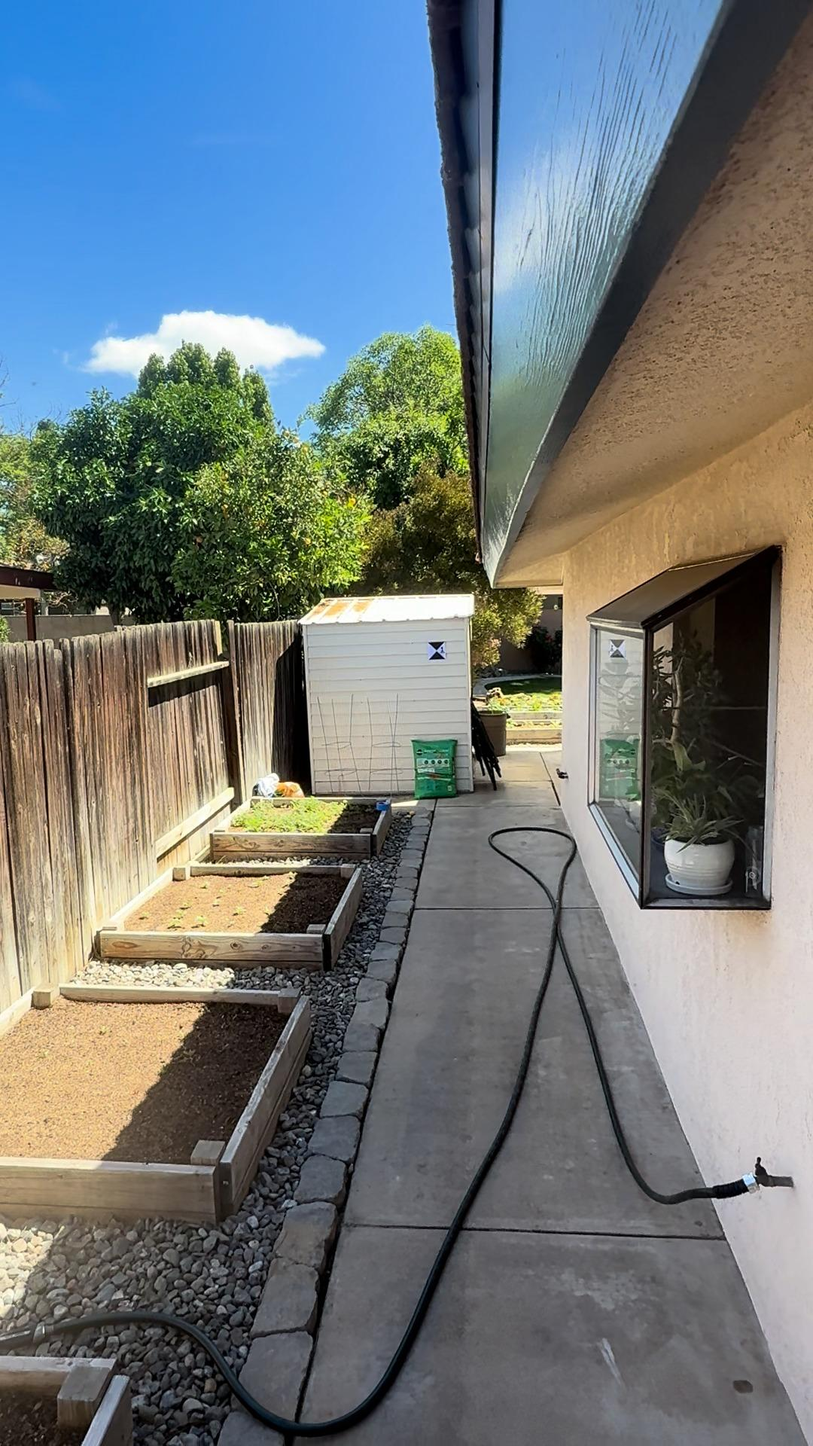target1: (428, 639, 445, 660)
